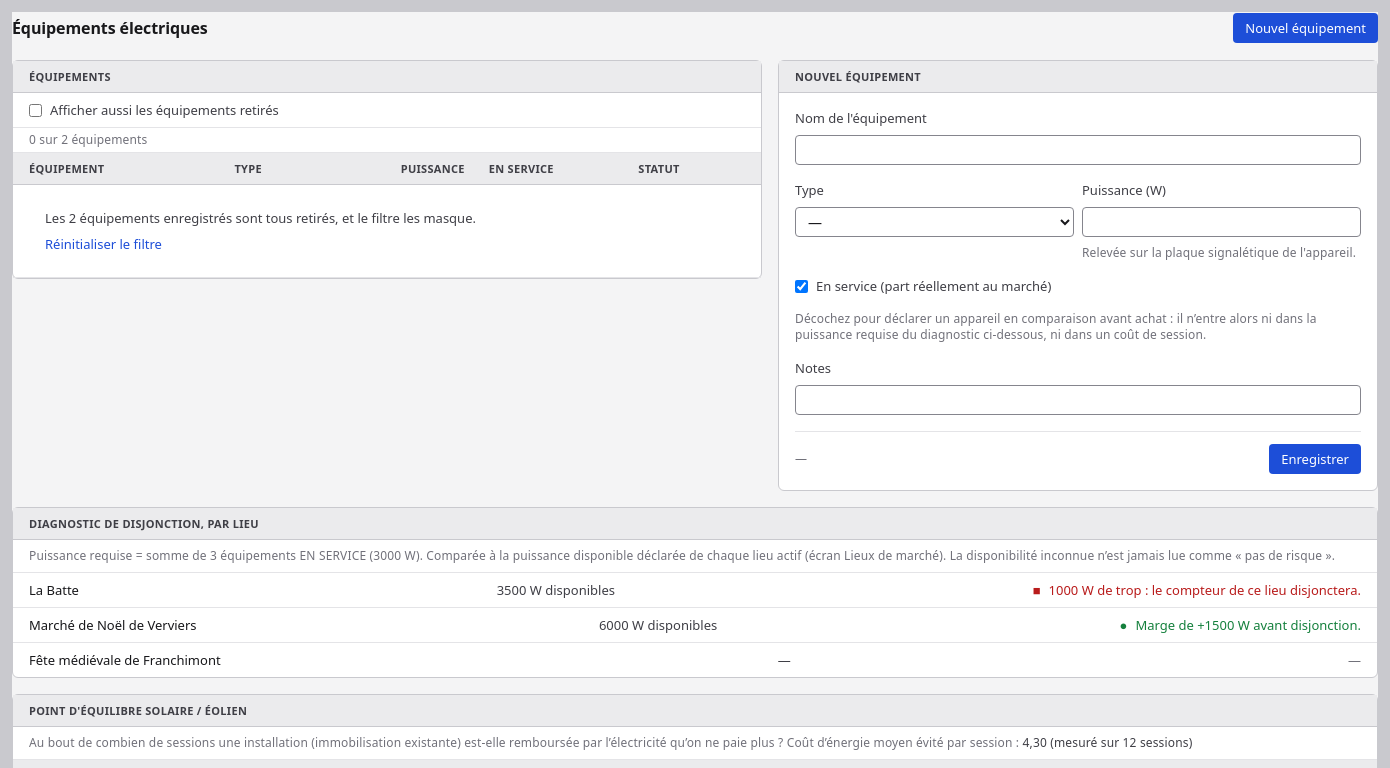
Test: Équipements — chargement, erreur, vide › liste non vide mais entièrement masquée par le filtre : l’état vide nomme LE filtre
Check: the text "Les 2 équipements enregistrés sont tous retirés, et le filtre les masque." is shown, box x1=45 y1=209 x2=476 y2=227
Note: Et la réinitialisation les fait bien réapparaître.
Click the button "Réinitialiser le filtre".
click(103, 244)  # box x1=45 y1=235 x2=162 y2=253
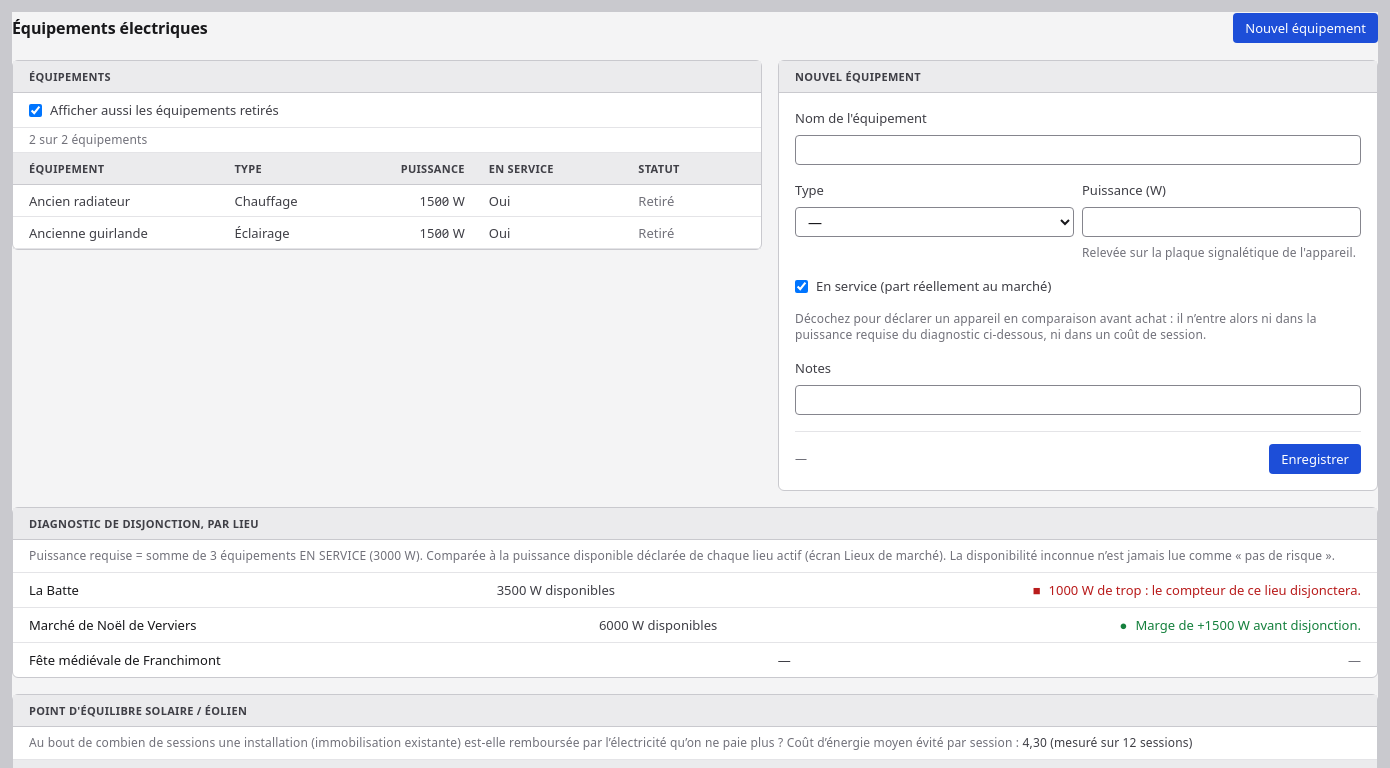
Check: the text "Ancien radiateur" is shown, box x1=13 y1=185 x2=222 y2=217
Check: the text "Ancienne guirlande" is shown, box x1=13 y1=217 x2=222 y2=249
